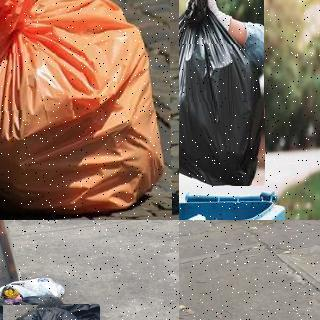Garbage: (0, 0, 171, 220), (179, 0, 264, 186), (0, 273, 70, 302), (0, 295, 72, 320), (3, 304, 100, 320)
